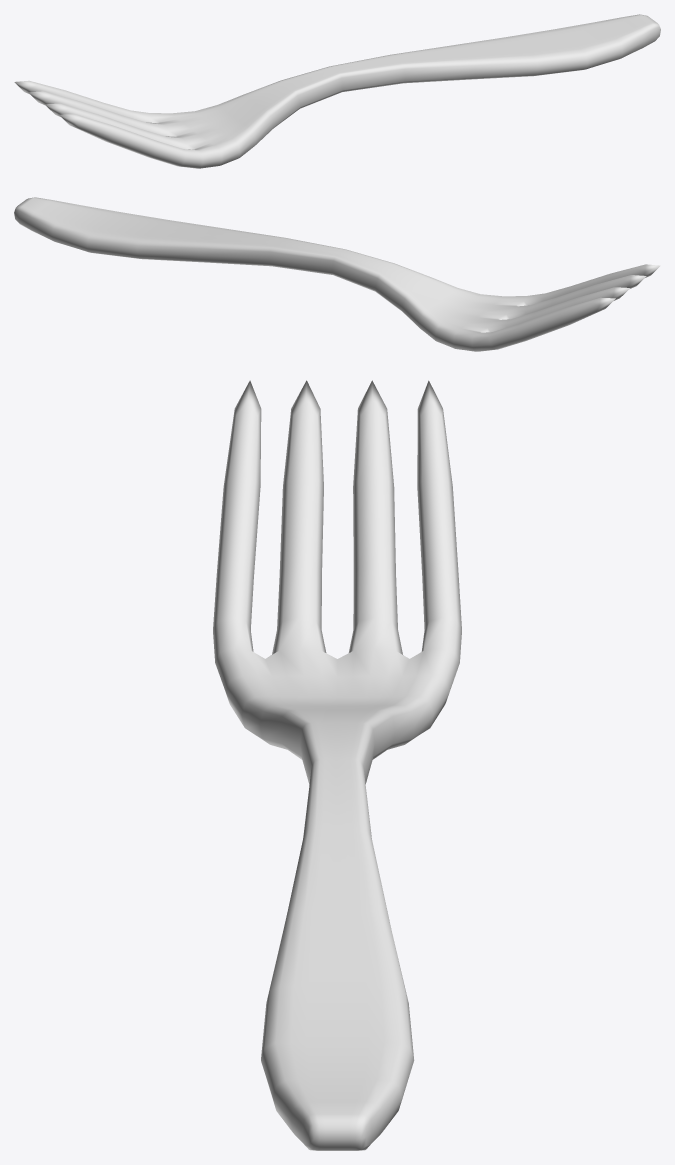
Rendered from SM_fork.glb.
3 views of the same model, one above another, from view 1: azimuth 30°, elevation 25°; view 2: azimuth 150°, elevation 25°; view 3: azimuth 270°, elevation 25° (orthographic). The views are drawn at different scales.
Visible parts, largest first — view 1: SM_fork; view 2: SM_fork; view 3: SM_fork.
Boxes of the visible parts, x1,y1,x2,y2 form: SM_fork: (14,14,660,168); SM_fork: (14,197,660,351); SM_fork: (213,380,461,1150).
Size of the model in its own units: 0.2813 by 0.0393 by 0.0491.
1 material, 1 textured.
